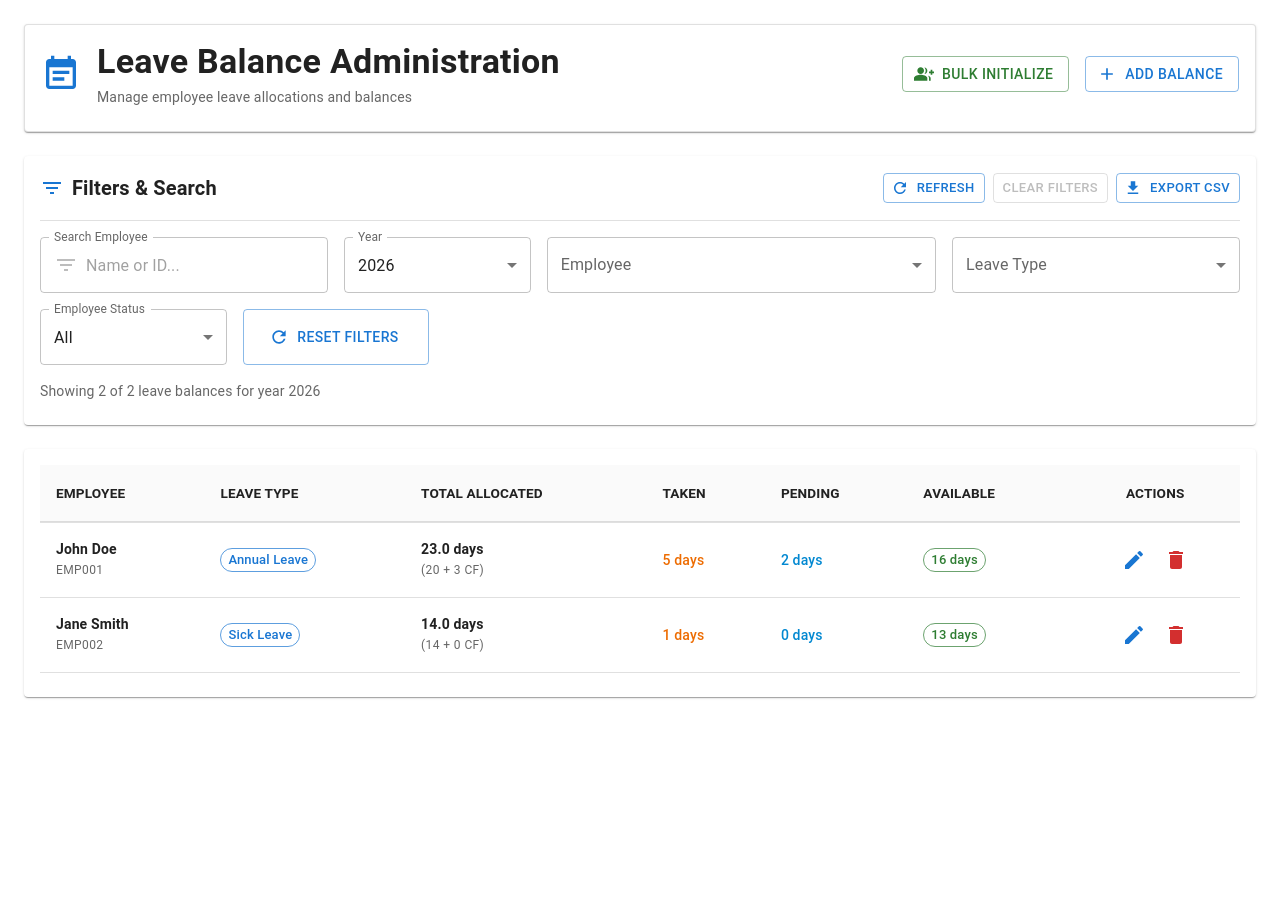
Test case: LeaveBalanceModern › Create Balance Dialog › shows error on creation failure
This screenshot has width=1280, height=900.
Expected: the text "John Doe" is shown, [56, 539, 117, 559]
Step 1. Click the button "Add Balance" → (1162, 74), box [1085, 56, 1239, 92]
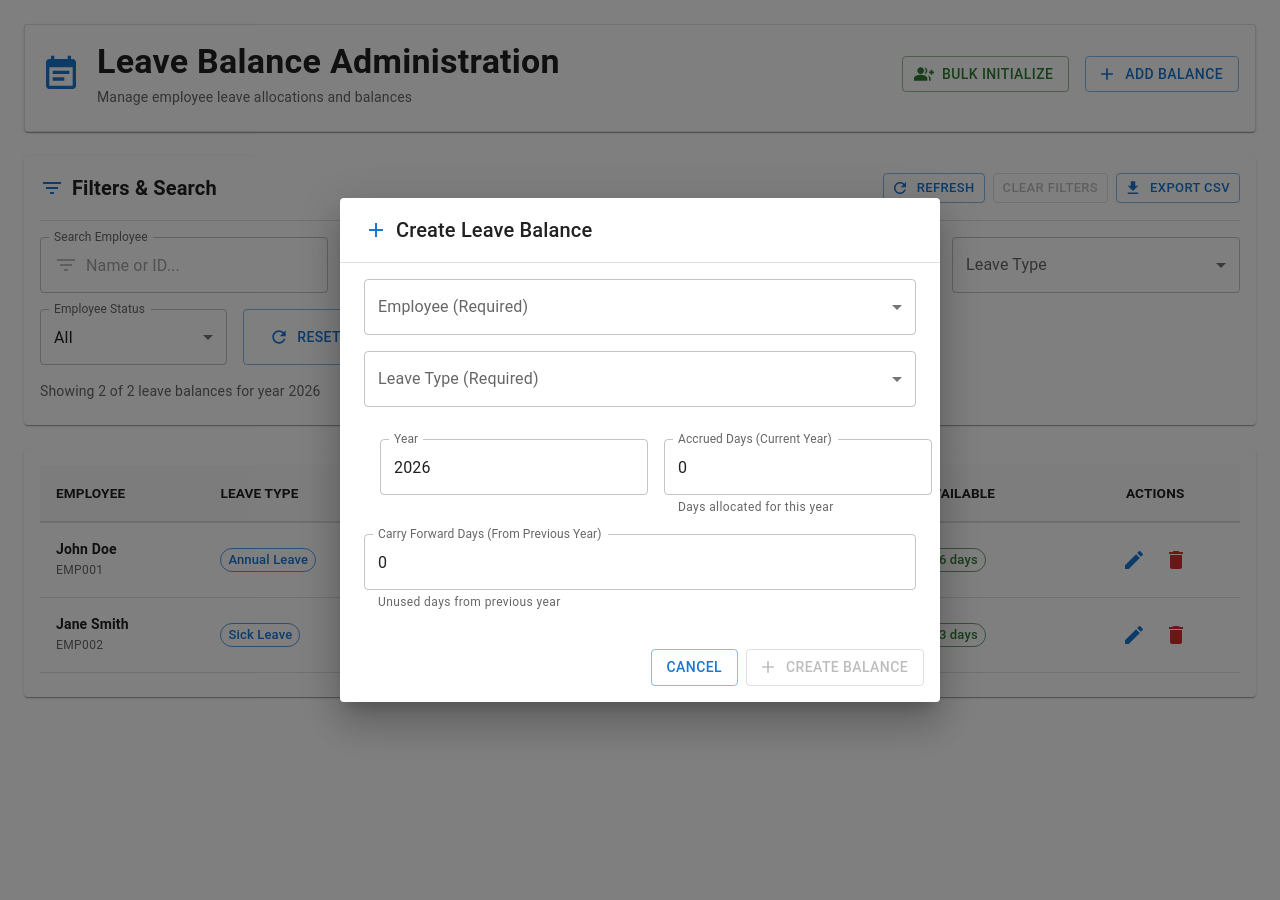
Expected: the text "Create Leave Balance" is shown, [364, 218, 592, 242]
Note: Select employee via MUI Select dropdown
Step 2. Click the dropdown next to "Employee (Required)" → (640, 307), box [364, 279, 916, 335]
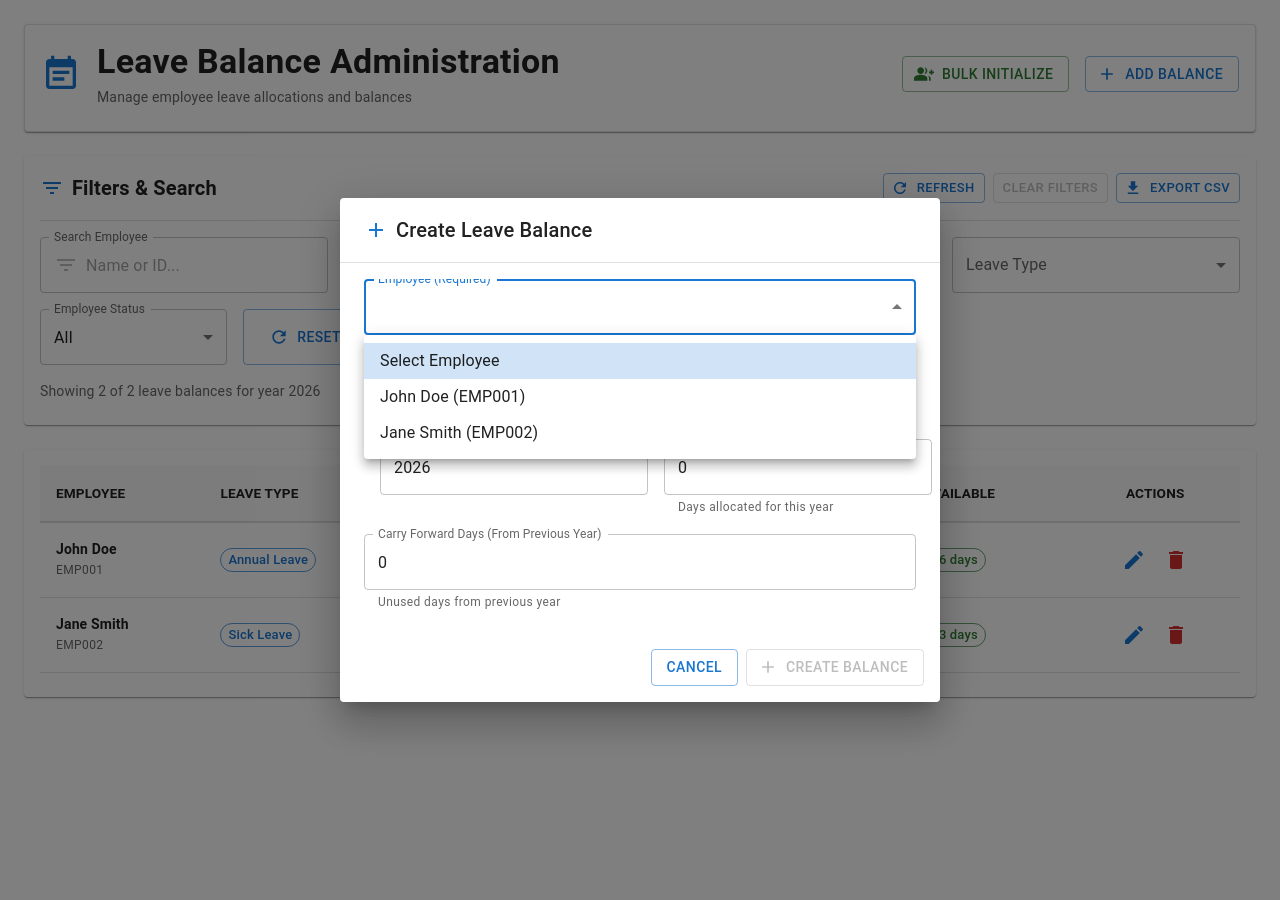
Step 3. Click the option "John Doe (EMP001)" → (453, 396), box [380, 387, 525, 406]
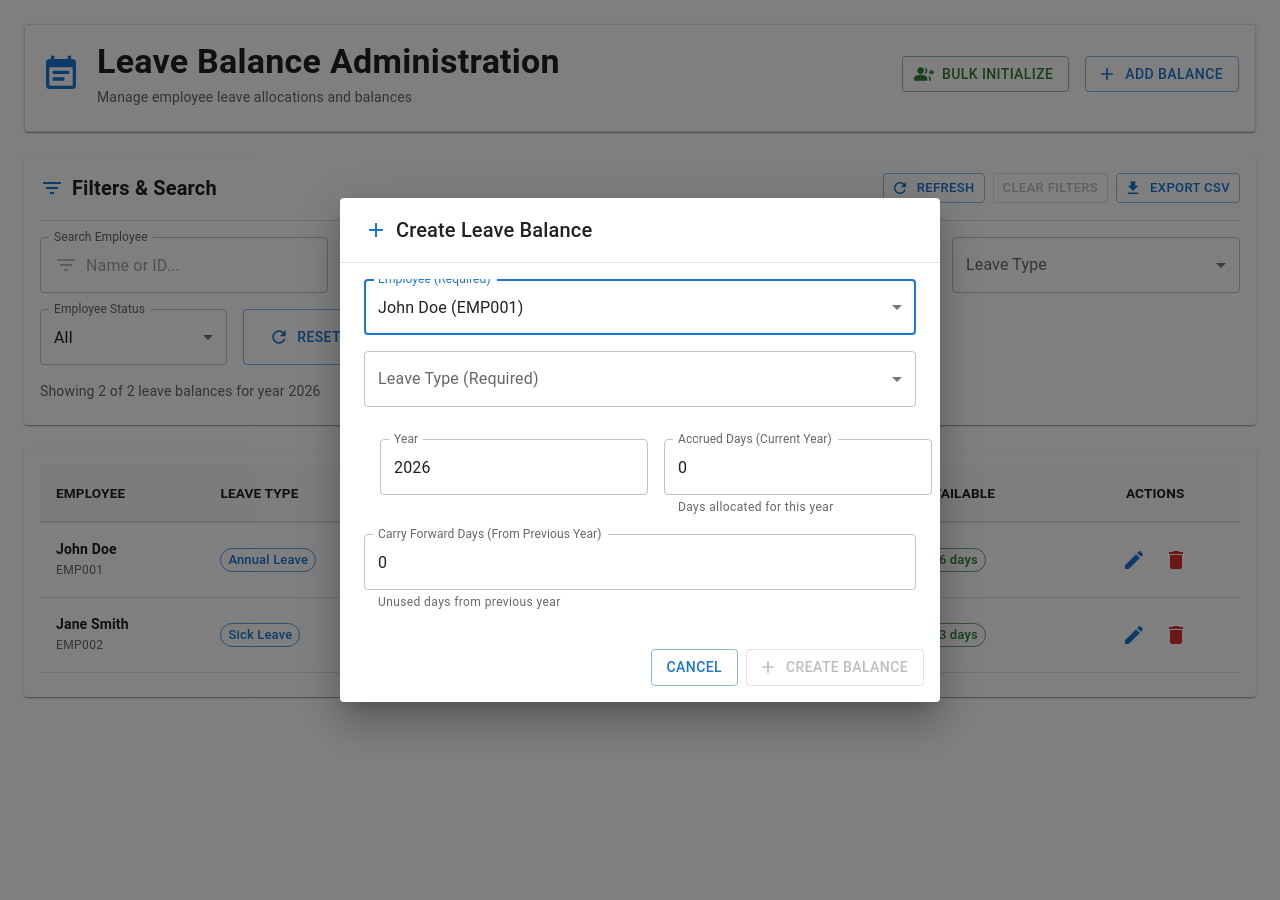
Note: Select leave type via MUI Select dropdown
Step 4. Click the 2nd dropdown → (640, 379), box [364, 351, 916, 407]
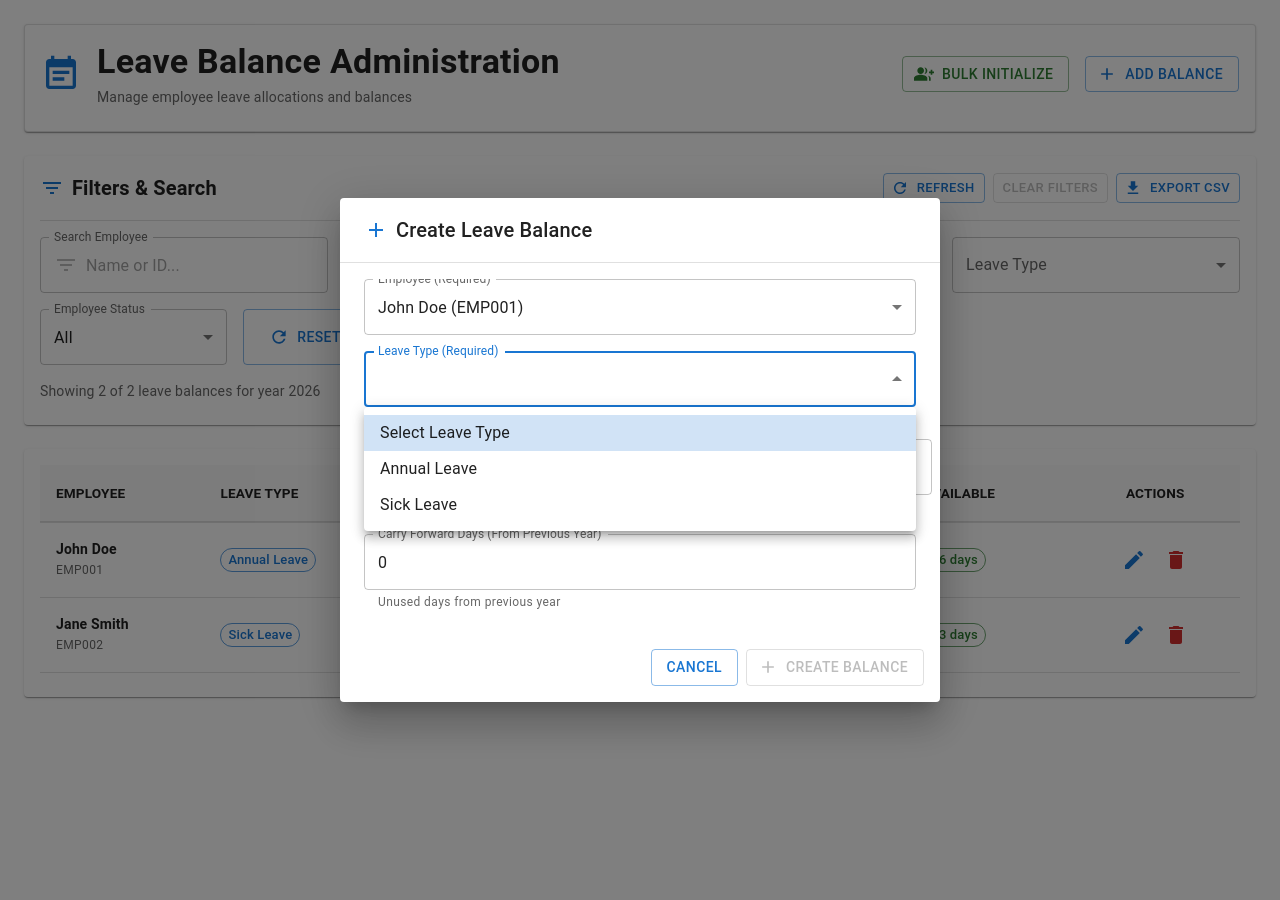
Step 5. Click the option "Annual Leave" → (429, 468), box [380, 459, 477, 478]
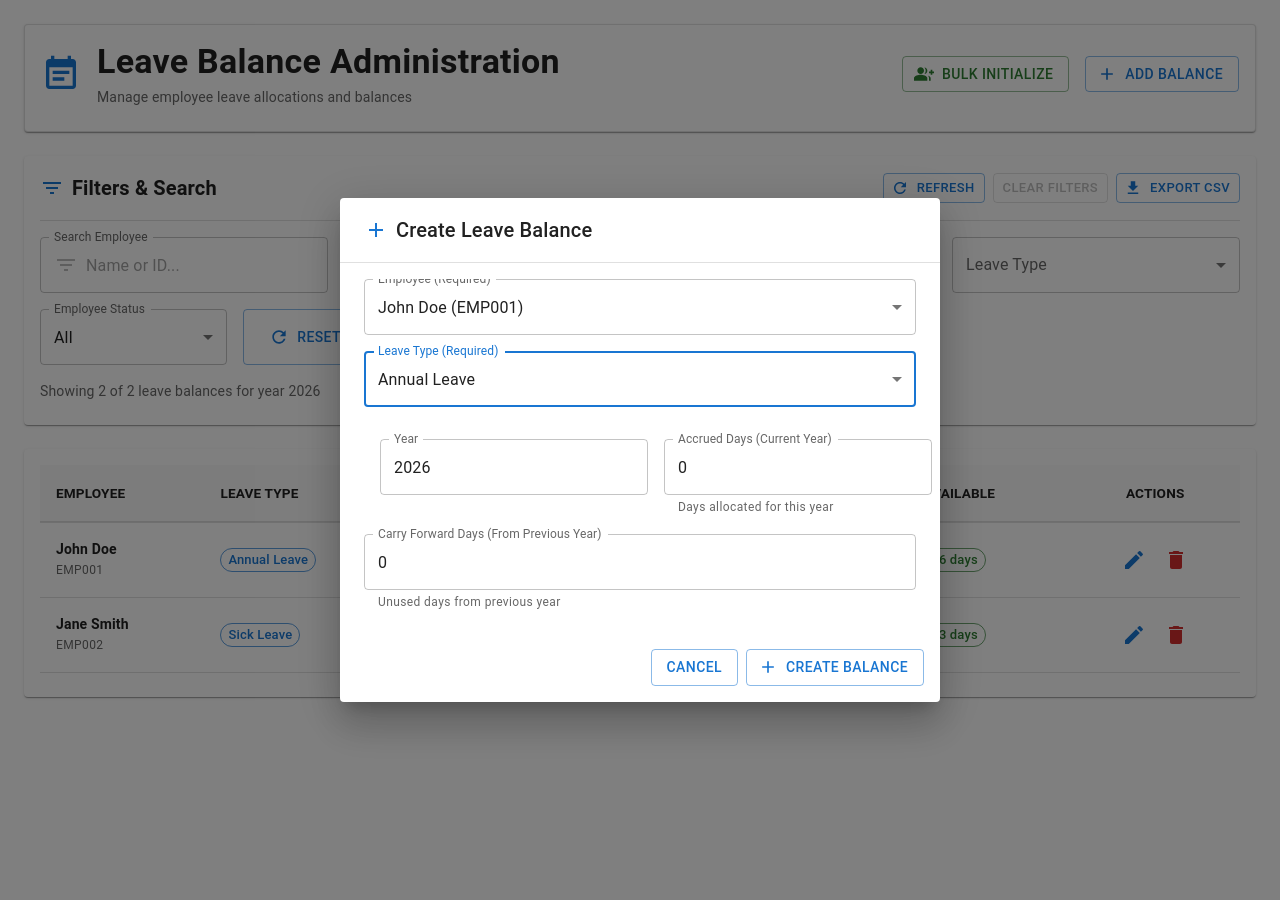
Step 6. Click the button "Create Balance" → (835, 667), box [746, 649, 924, 686]
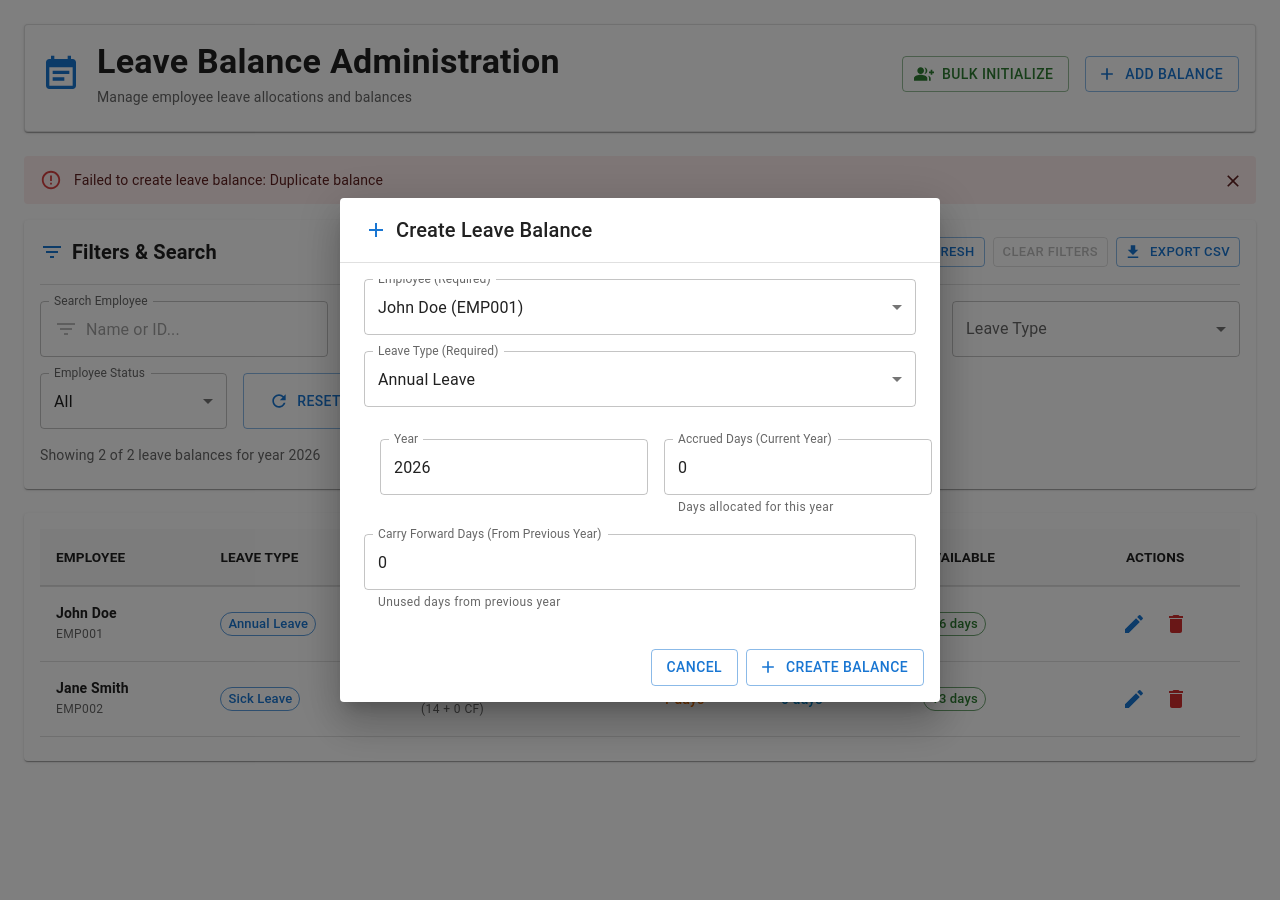
Expected: the text "Failed to create leave balance: Duplicate balance" is shown, [74, 172, 383, 188]
